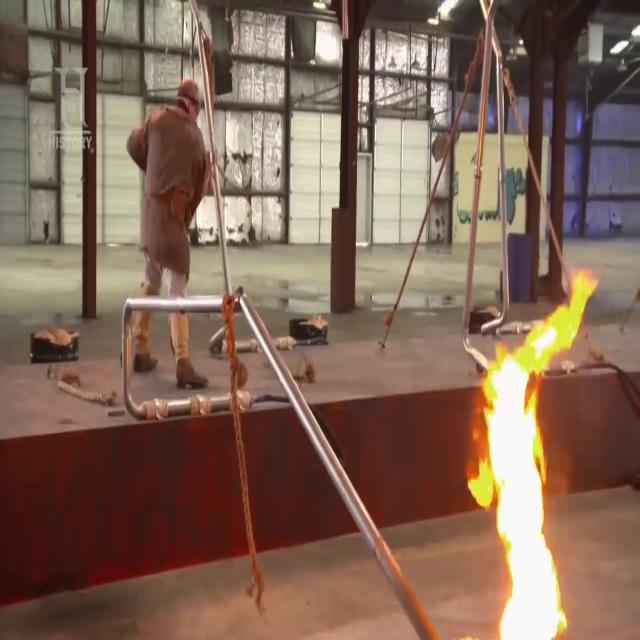fire: (473, 268, 599, 640)
